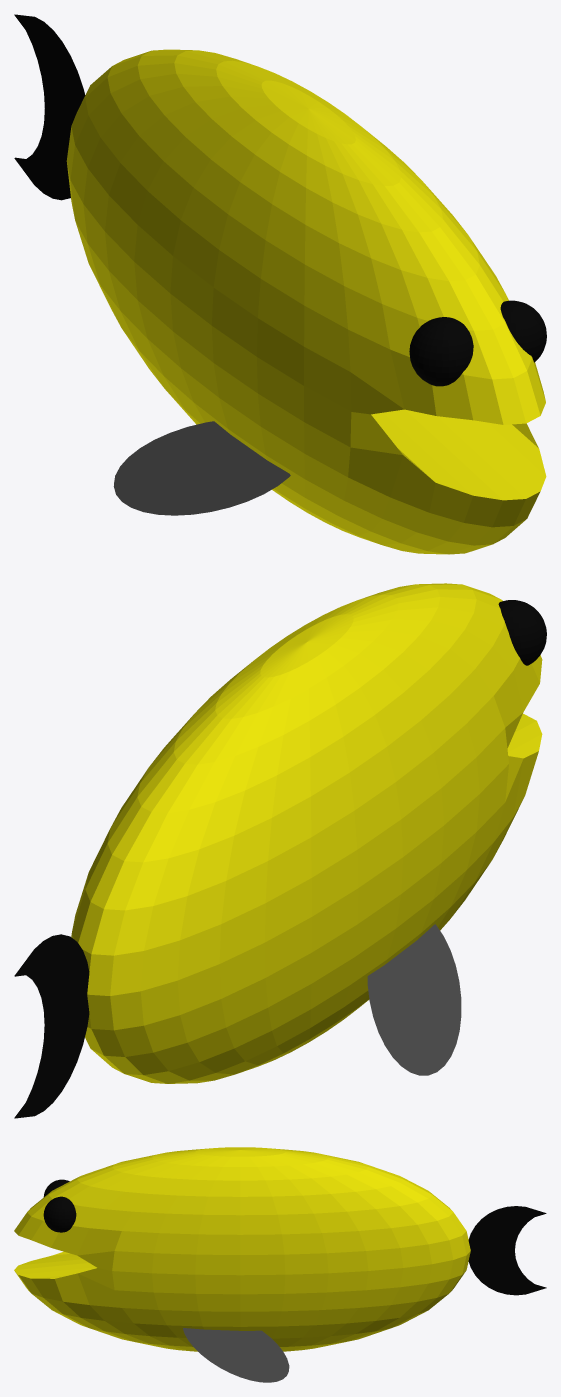
File: Fish.fbx
3 renders of one model, top to bottom at view 1: azimuth 30°, elevation 25°; view 2: azimuth 150°, elevation 25°; view 3: azimuth 270°, elevation 25°, orthographic. The views are drawn at different scales.
Visible parts, largest first — view 1: Sphere, Circle.001, Circle, Sphere.001, Sphere.002; view 2: Sphere, Circle.001, Circle, Sphere.001; view 3: Sphere, Circle.003, Circle.004, Sphere.002.
Boxes of the visible parts, left/top/right/bottom form: Sphere: left=66, top=49, right=546, bottom=554; Circle.001: left=114, top=421, right=289, bottom=513; Circle: left=14, top=14, right=84, bottom=200; Sphere.001: left=409, top=317, right=473, bottom=386; Sphere.002: left=500, top=300, right=546, bottom=362; Sphere: left=71, top=583, right=542, bottom=1083; Circle.001: left=367, top=924, right=461, bottom=1073; Circle: left=15, top=934, right=89, bottom=1118; Sphere.001: left=498, top=600, right=546, bottom=665; Sphere: left=14, top=1147, right=470, bottom=1351; Circle.003: left=468, top=1206, right=546, bottom=1295; Circle.004: left=183, top=1328, right=288, bottom=1382; Sphere.002: left=43, top=1196, right=76, bottom=1232.
Size of the model in its own units: 389 by 458 by 1100.
